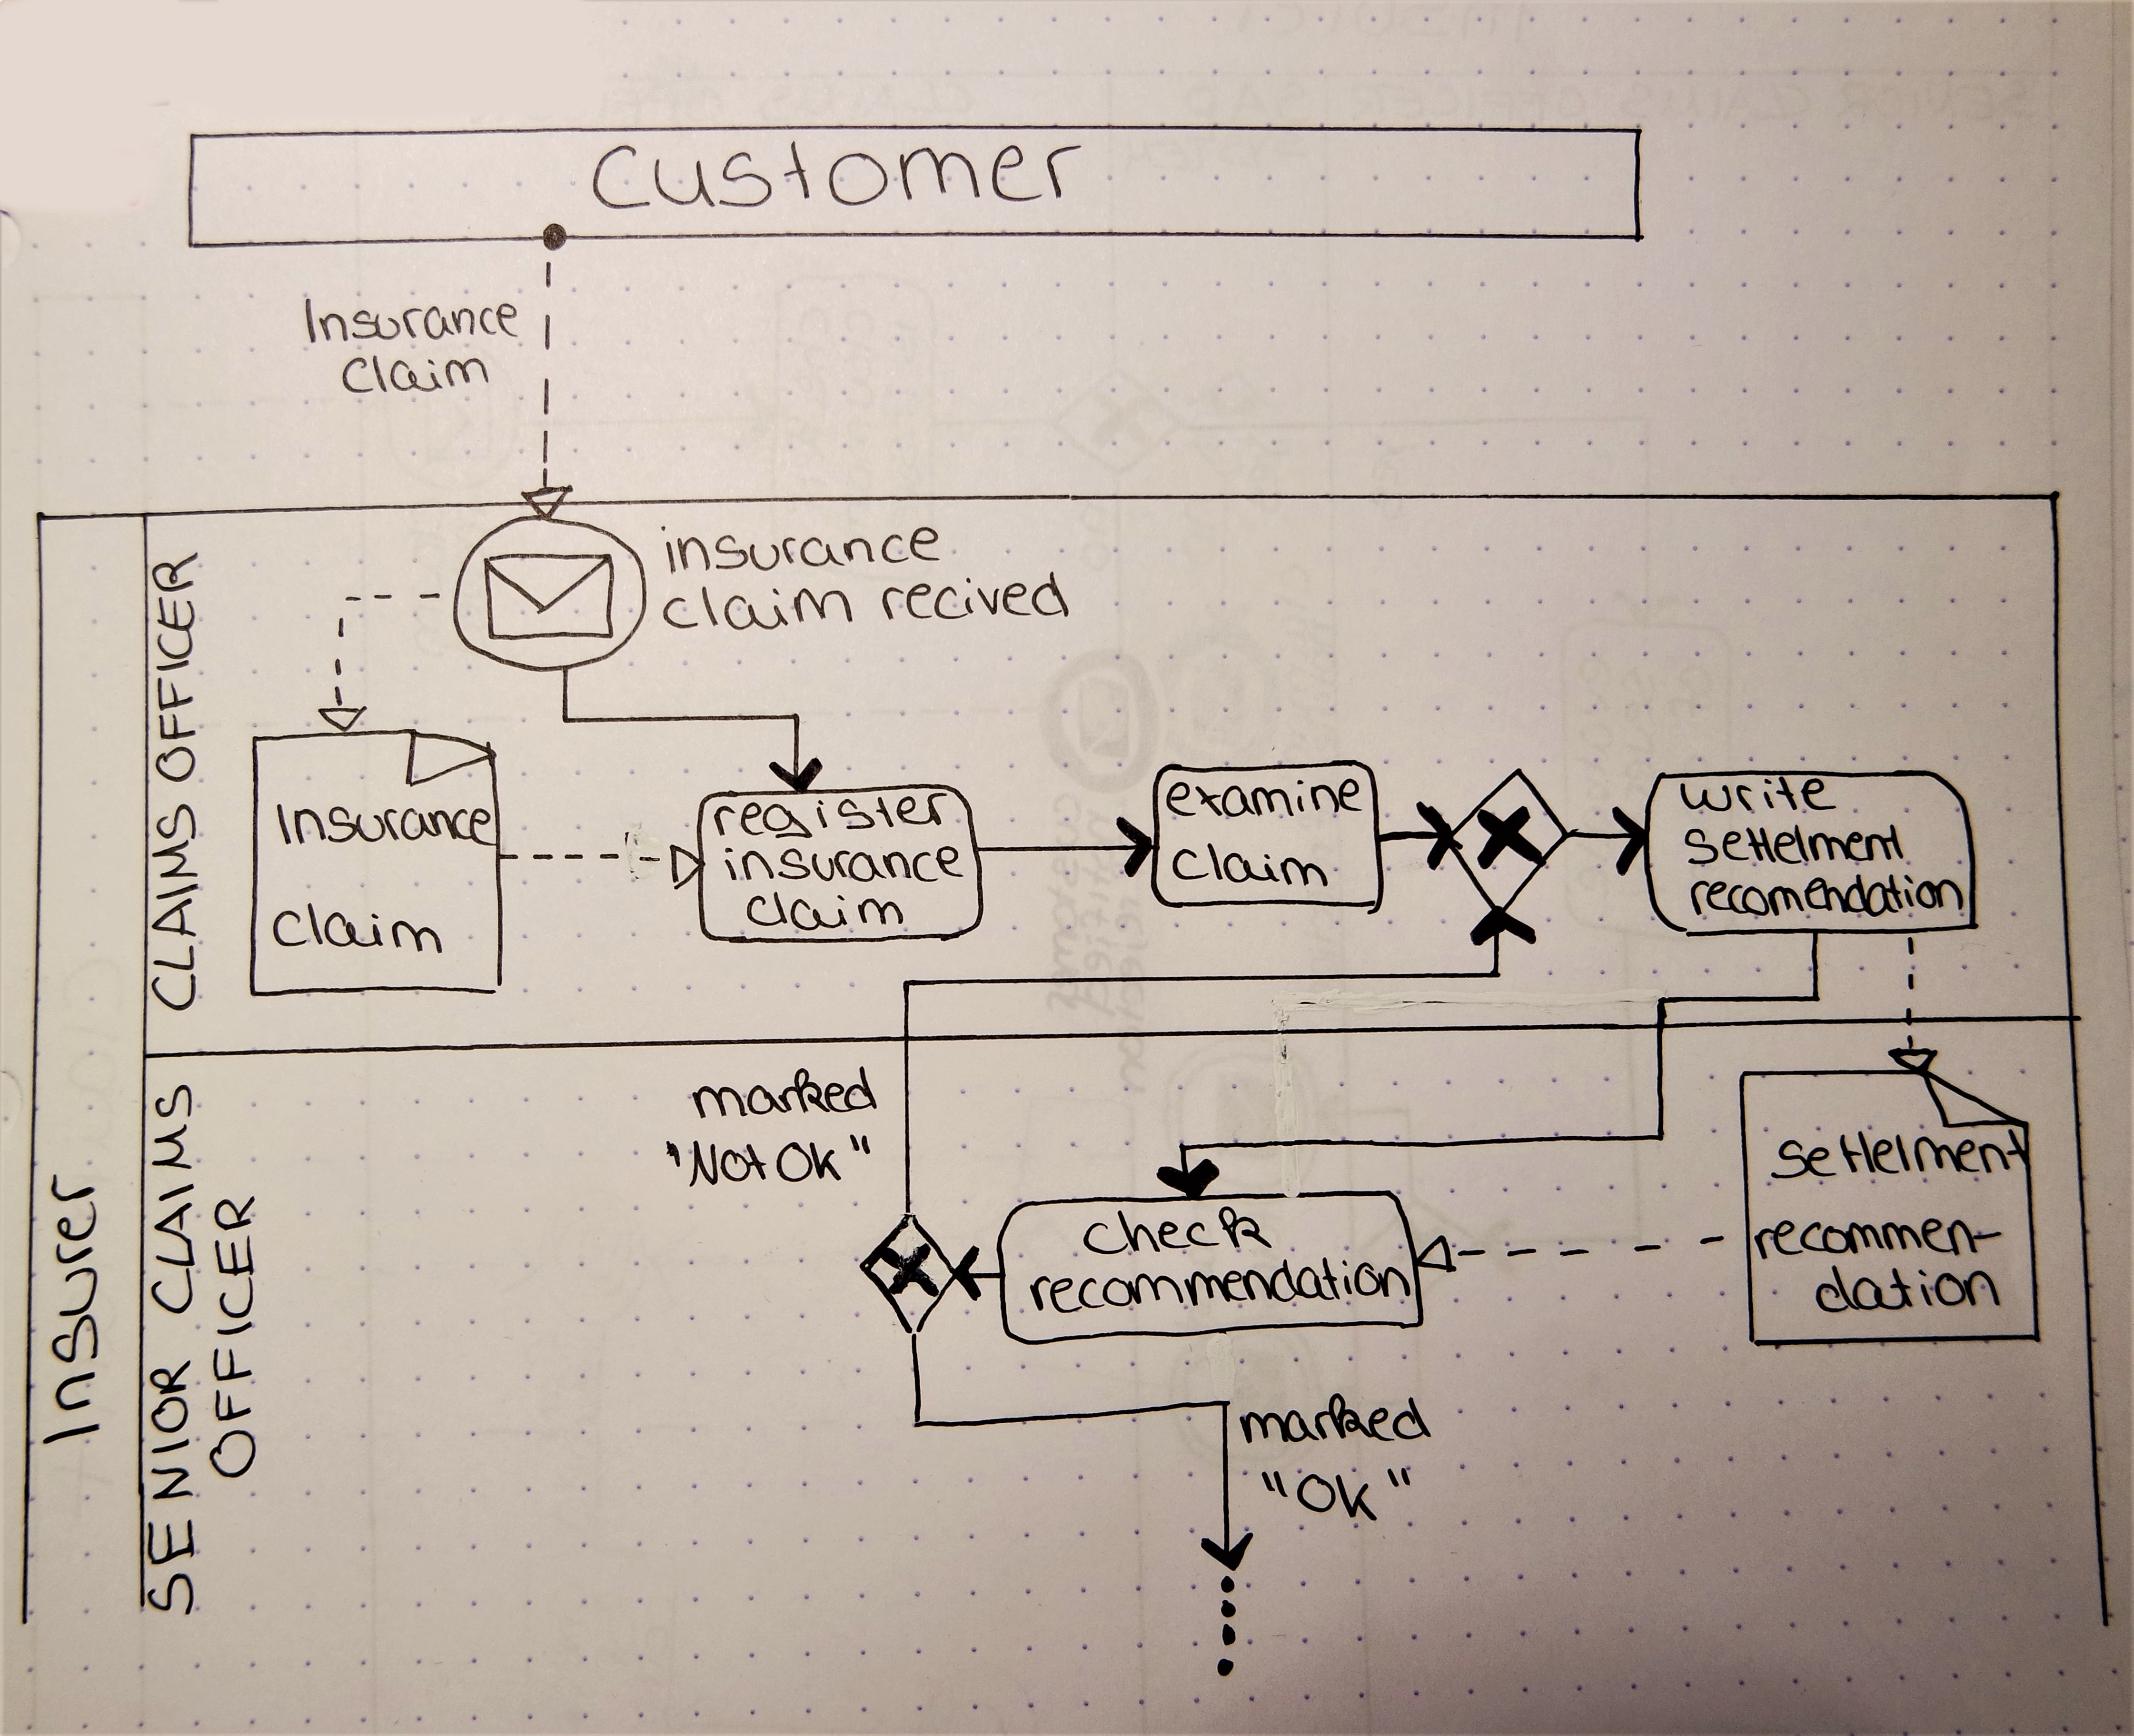CLAIMS: (143, 1075, 204, 1321), (145, 795, 205, 1019)
Claim: (333, 345, 498, 402)
Customer: (577, 131, 1098, 221)
Insurance: (296, 291, 526, 351), (269, 795, 503, 852)
Insurer: (35, 1167, 112, 1456)
Not: (659, 1134, 772, 1194)
OFFICER: (198, 1189, 266, 1486), (147, 546, 205, 792)
OK: (1256, 1461, 1420, 1531)
Ok: (770, 1128, 877, 1187)
SENIOR: (138, 1353, 202, 1623)
check: (1075, 1199, 1280, 1261)
claim: (653, 577, 866, 639), (267, 896, 450, 962), (1165, 836, 1334, 893), (738, 886, 910, 937)
dation: (1808, 1258, 2008, 1320)
examine: (1160, 772, 1367, 824)
insurance: (652, 519, 949, 583), (715, 840, 970, 889)
marked: (685, 1059, 884, 1127), (1233, 1387, 1438, 1451)
recived: (875, 562, 1079, 627)
recomendation: (1682, 866, 1971, 923)
recommen-: (1746, 1210, 2010, 1265)
recommendation: (1024, 1251, 1420, 1320)
register: (707, 785, 956, 847)
settelment: (1762, 1123, 2035, 1185), (1677, 817, 1911, 873)
write: (1674, 771, 1842, 818)
